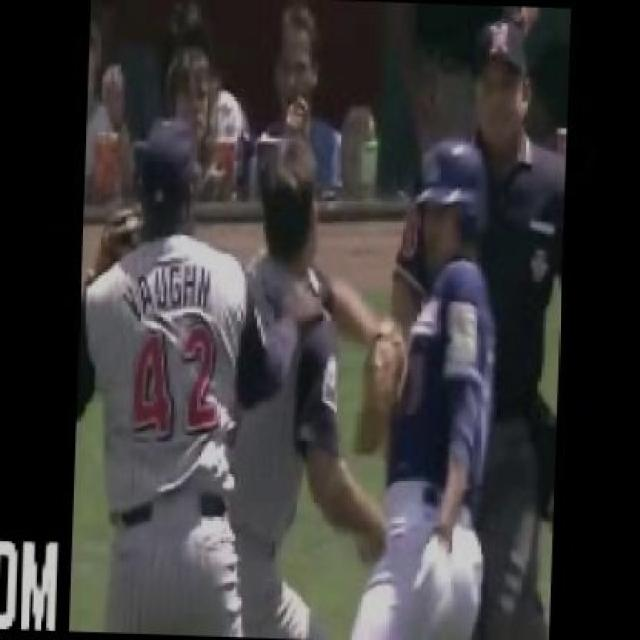fight: (242, 124, 499, 638)
non-fight: (80, 103, 330, 640), (392, 16, 588, 640)
